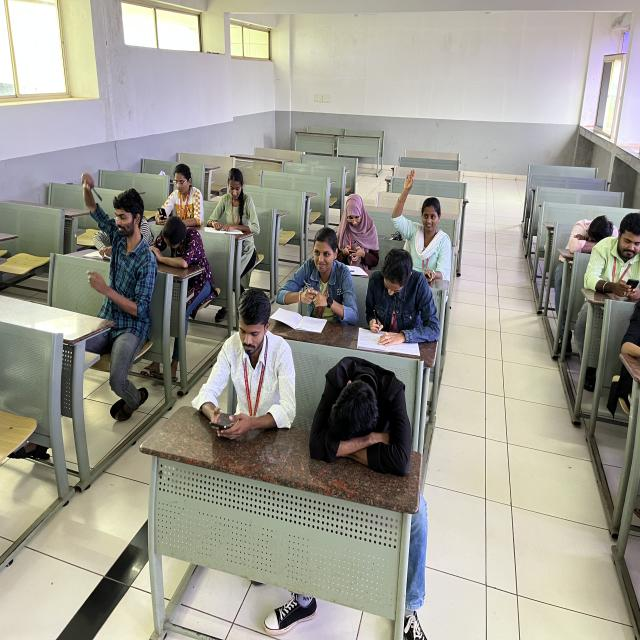Hand Rising: (392, 167, 455, 278)
Sleeping: (308, 340, 431, 490), (558, 206, 625, 262)
Using Phone: (192, 281, 306, 456), (583, 212, 640, 330), (153, 162, 206, 235), (332, 189, 378, 272)
Writing: (271, 224, 355, 334), (361, 246, 436, 359)
